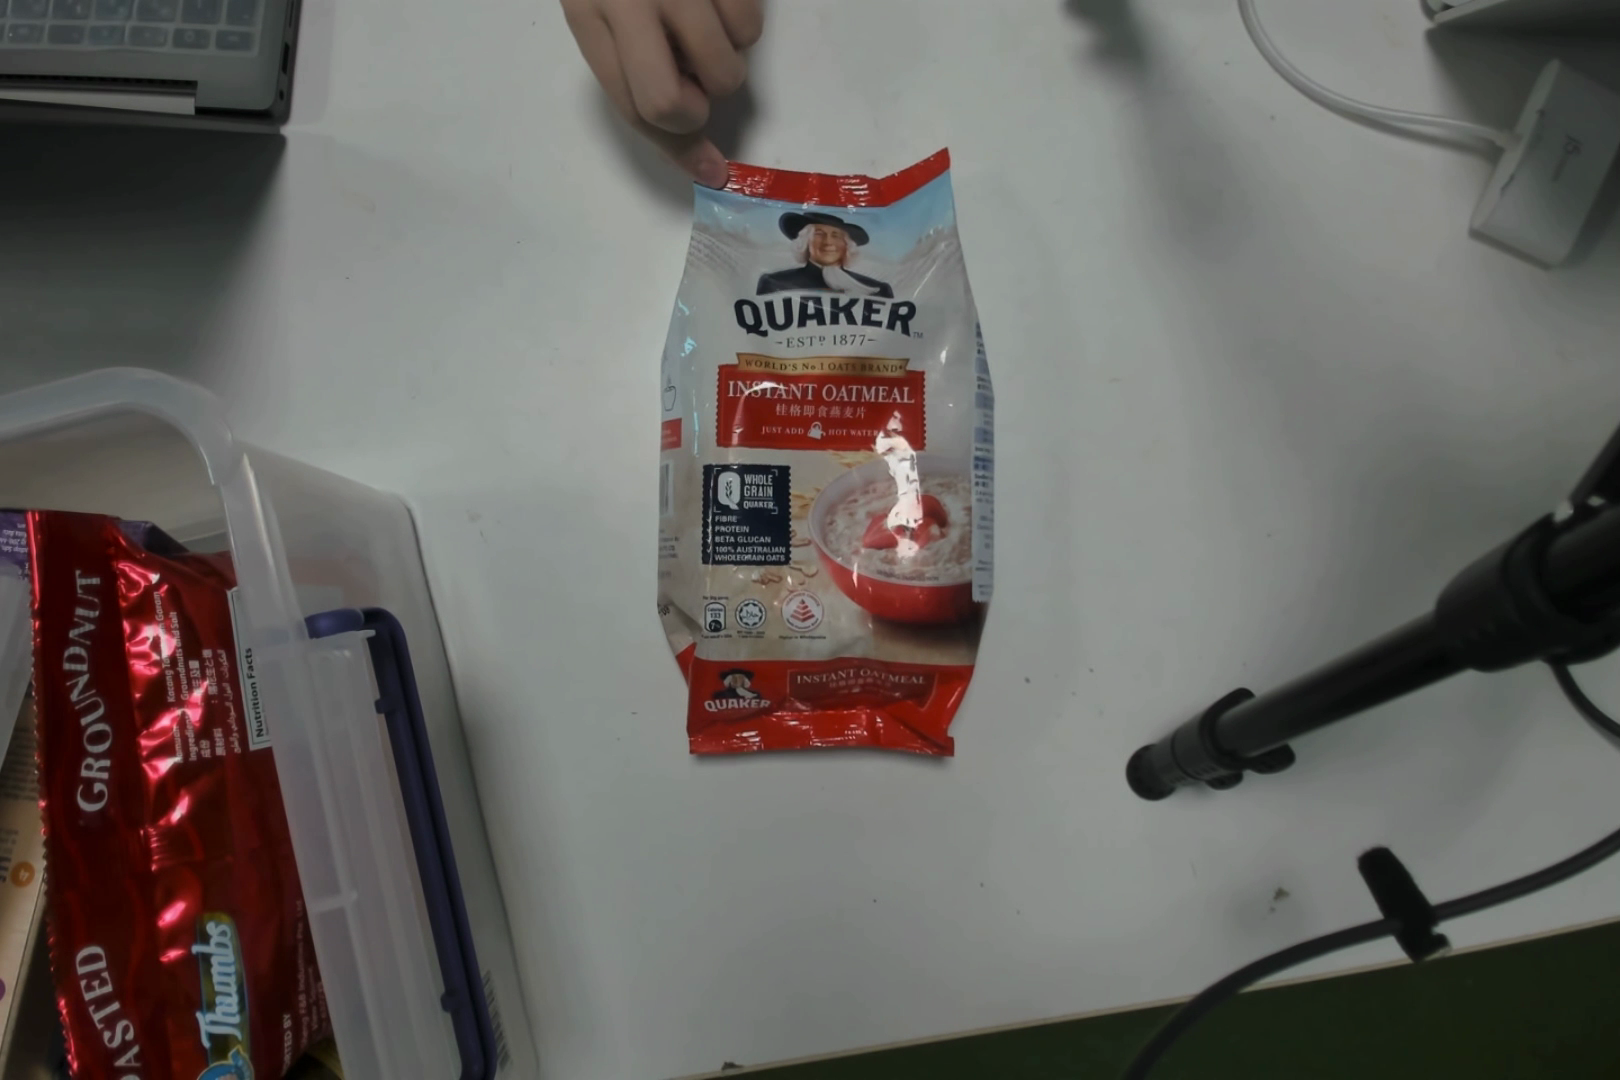RolledOatsInstantOatmeal_400-499g_Halal_Healthy: (674, 180, 997, 751)
